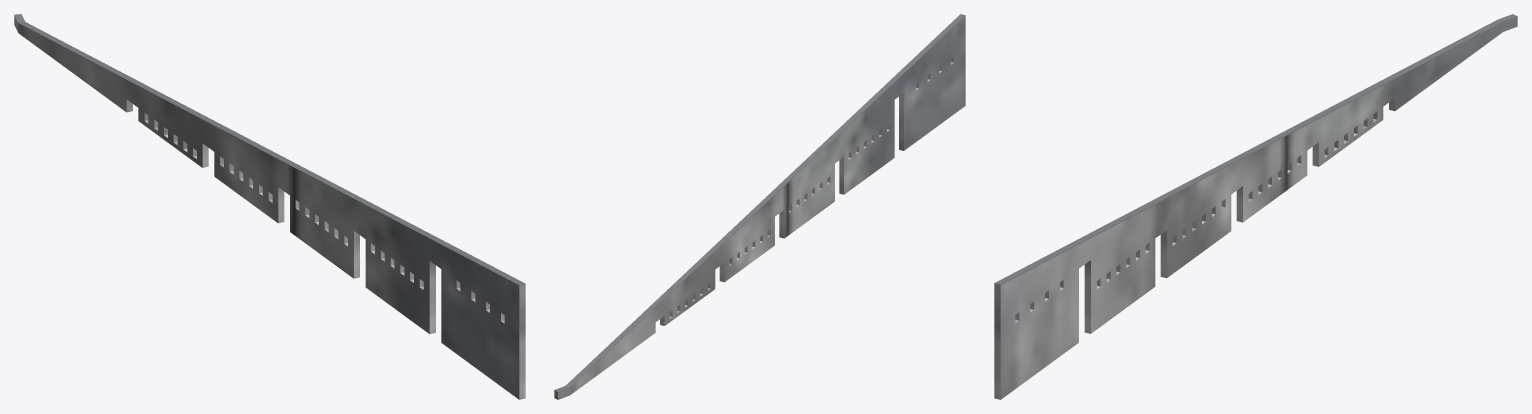
The model's file is greatwall1.fbx.
3 renders of one model, left to right at view 1: azimuth 30°, elevation 25°; view 2: azimuth 150°, elevation 25°; view 3: azimuth 330°, elevation 25°, orthographic. The views are drawn at different scales.
Visible parts, largest first — view 1: greatwall; view 2: greatwall; view 3: greatwall.
Boxes of the visible parts, <box> form: greatwall: <box>14,14,525,399</box>; greatwall: <box>554,14,965,399</box>; greatwall: <box>994,14,1517,399</box>.
Bounding box in the file's own units: 76.22 × 708 × 5714.
